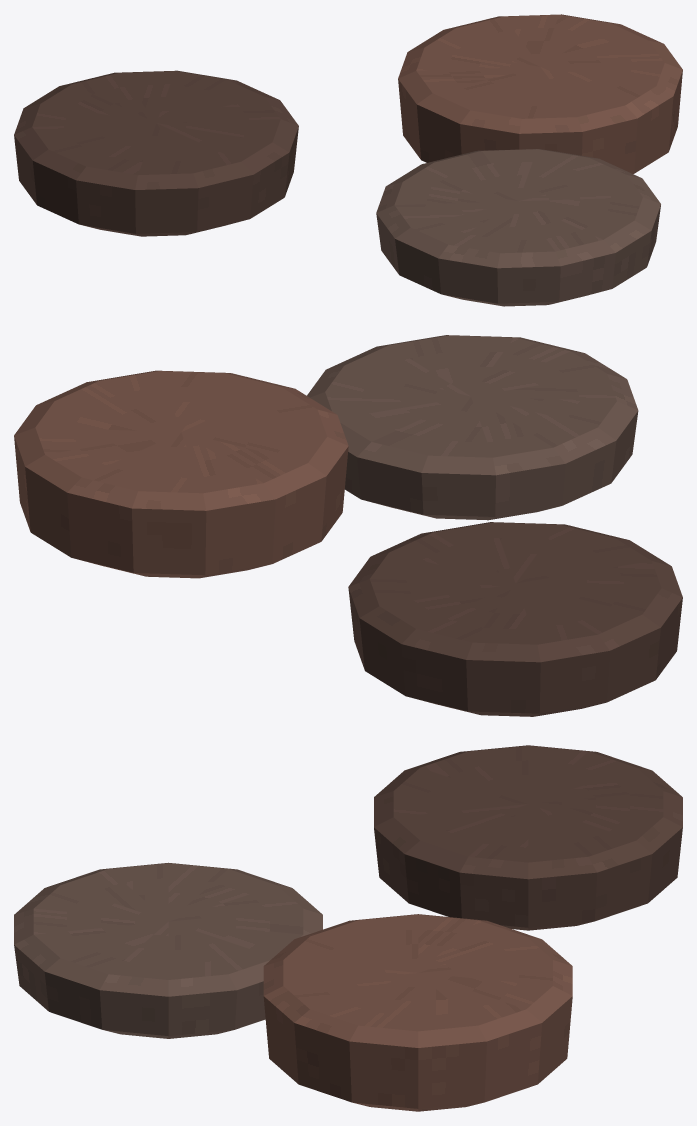
Rendered from mintpatties.glb.
3 renders of one model, top to bottom at view 1: azimuth 30°, elevation 25°; view 2: azimuth 150°, elevation 25°; view 3: azimuth 270°, elevation 25°, orthographic. The views are drawn at different scales.
Visible parts, largest first — view 1: block_moulded candy (×3); view 2: block_moulded candy (×3); view 3: block_moulded candy (×3).
Boxes of the visible parts, left/top/right/bottom form: block_moulded candy (×3): left=14, top=14, right=682, bottom=306; block_moulded candy (×3): left=14, top=335, right=682, bottom=716; block_moulded candy (×3): left=14, top=745, right=682, bottom=1111.
Size of the model in its own units: 0.0833 by 0.0113 by 0.0748.
1 material, 1 textured.
